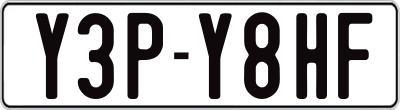3: (77, 11, 114, 97)
8: (241, 12, 277, 103)
F: (336, 10, 376, 99)
H: (295, 11, 332, 102)
P: (126, 12, 163, 102)
Y: (36, 13, 74, 102), (197, 10, 231, 100)
